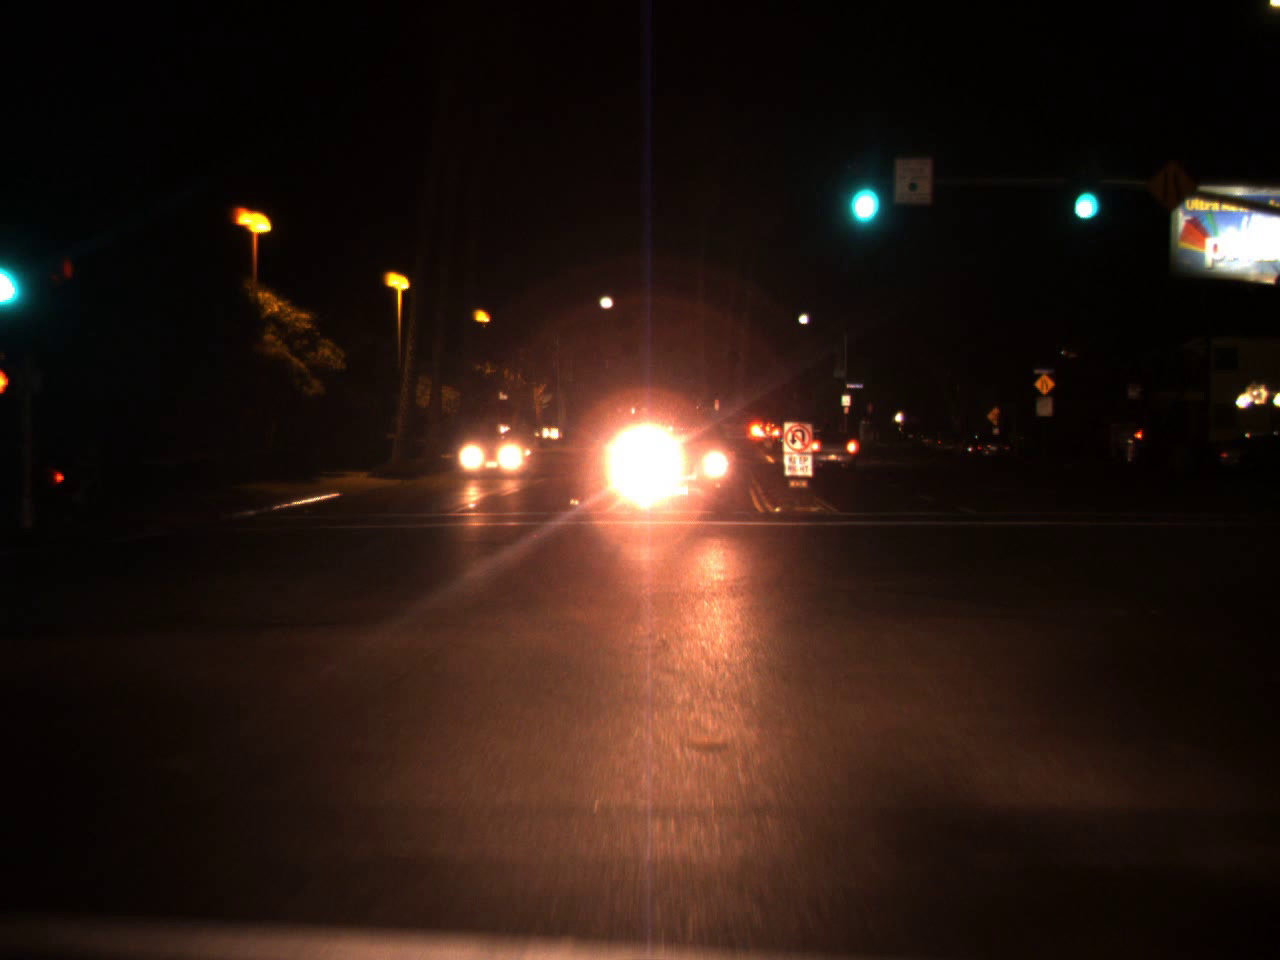go: (840, 148, 881, 235), (1065, 158, 1102, 230), (0, 229, 25, 319)
